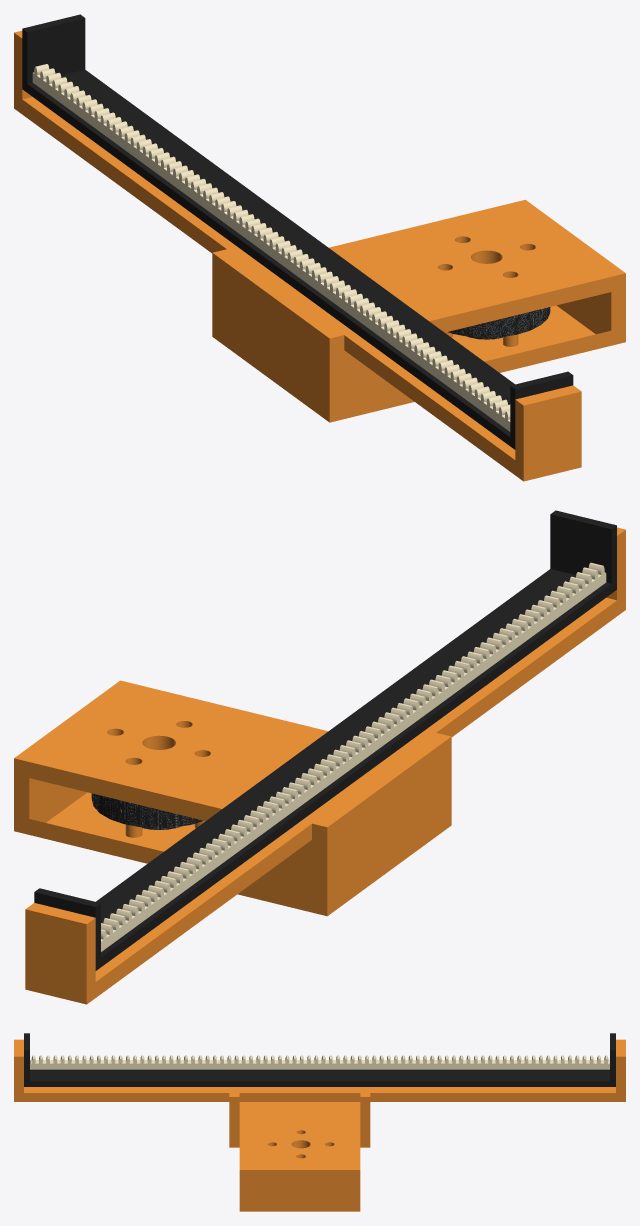
Rendered from updown.obj.
3 views of the same model, one above another, from view 1: azimuth 30°, elevation 25°; view 2: azimuth 150°, elevation 25°; view 3: azimuth 270°, elevation 25° (orthographic). The views are drawn at different scales.
Visible parts, largest first — view 1: Mesh2 updown1 Model, Mesh1 alasrel1 Model, Mesh3 rel_gigi1 Model; view 2: Mesh2 updown1 Model, Mesh1 alasrel1 Model, Mesh3 rel_gigi1 Model; view 3: Mesh2 updown1 Model, Mesh1 alasrel1 Model, Mesh3 rel_gigi1 Model.
Part boxes in pixels (left/top/right/bottom): Mesh2 updown1 Model: left=14, top=30, right=625, bottom=481; Mesh1 alasrel1 Model: left=22, top=14, right=573, bottom=449; Mesh3 rel_gigi1 Model: left=32, top=64, right=510, bottom=431; Mesh2 updown1 Model: left=14, top=527, right=625, bottom=1004; Mesh1 alasrel1 Model: left=34, top=510, right=616, bottom=970; Mesh3 rel_gigi1 Model: left=101, top=562, right=606, bottom=951; Mesh2 updown1 Model: left=14, top=1039, right=625, bottom=1211; Mesh1 alasrel1 Model: left=24, top=1033, right=615, bottom=1086; Mesh3 rel_gigi1 Model: left=30, top=1055, right=609, bottom=1069.
Size of the model in its own units: 10.5 by 5.87 by 30.42.
